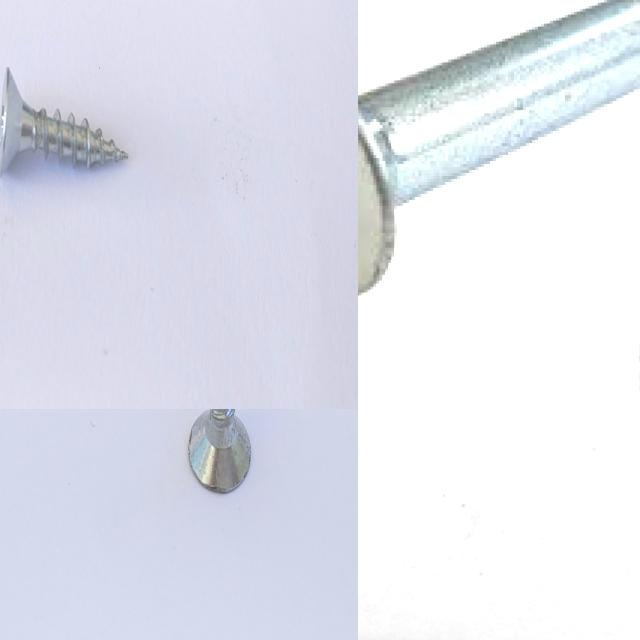Screw: (358, 0, 640, 298), (358, 521, 640, 640), (0, 66, 129, 175), (189, 409, 251, 492)
